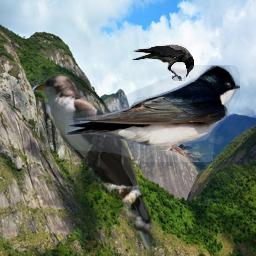Crow: (131, 44, 194, 81)
Cuckoo: (32, 74, 167, 253)
Swallow: (65, 65, 240, 162)
